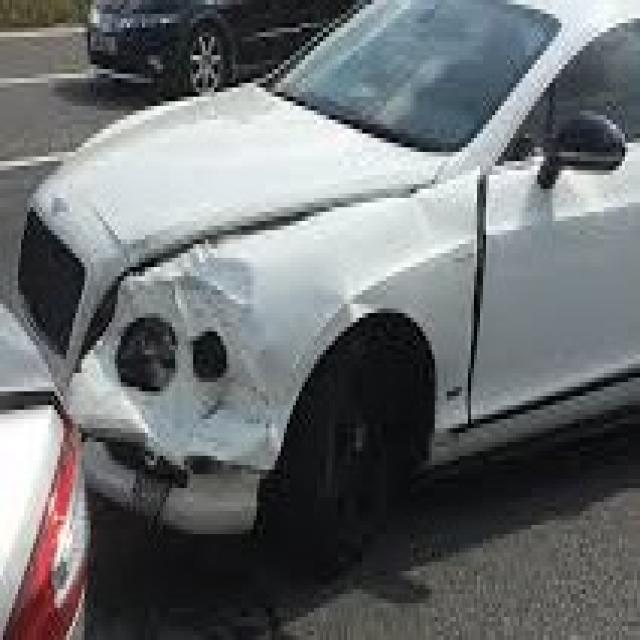minor: (445, 160, 501, 393)
moderate: (75, 194, 319, 511)
